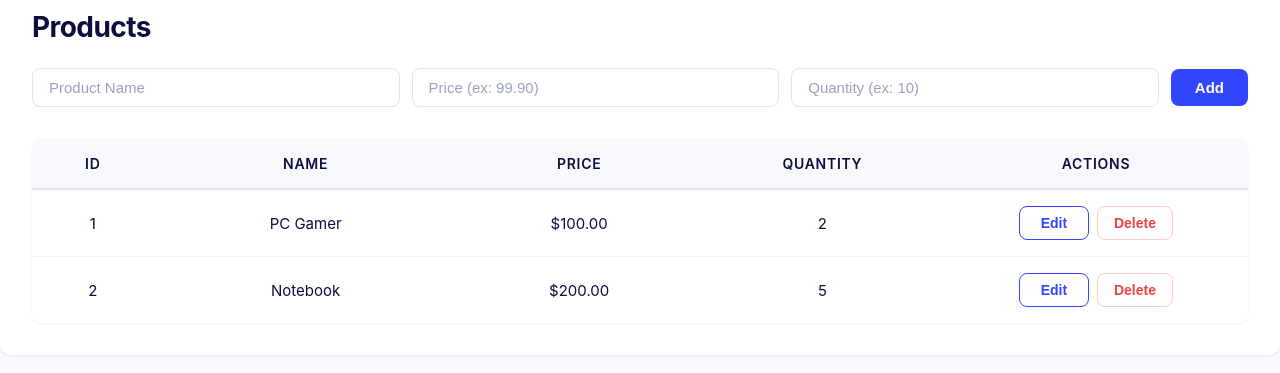
Test: Products Component - Suite Completa › Editar Produto › cancela edição ao clicar em Cancel
The image size is (1280, 373).
Expected: the text "PC Gamer" is shown, [154, 190, 458, 257]
Click the button "Edit" in the row of "PC Gamer".
click(1054, 223)  # box [1019, 206, 1089, 240]
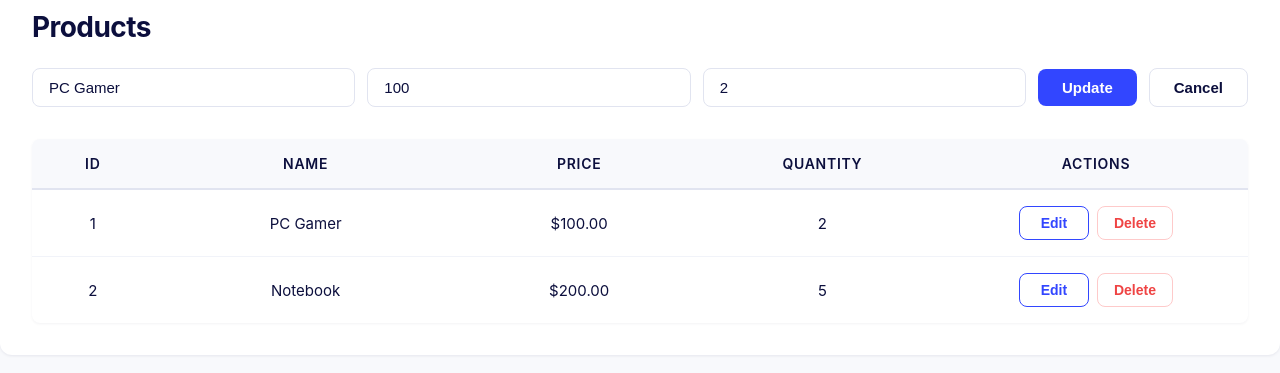
Click the button "Cancel".
click(1198, 88)  # box [1149, 68, 1248, 107]
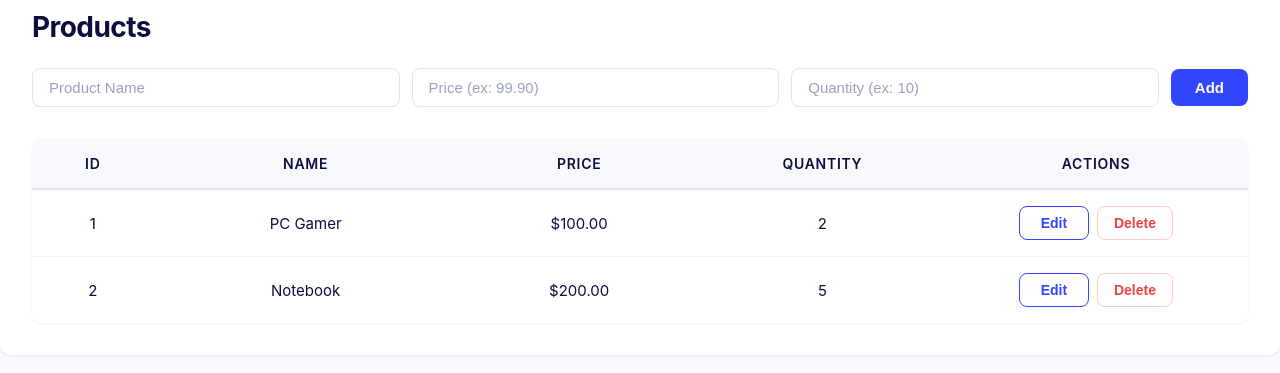
Expected: the field with placeholder "Product Name" is empty, [32, 68, 400, 107]
Expected: the number field with placeholder "Price (ex: 99.90)" is empty, [412, 68, 779, 107]
Expected: the number field with placeholder "Quantity (ex: 10)" is empty, [791, 68, 1159, 107]
